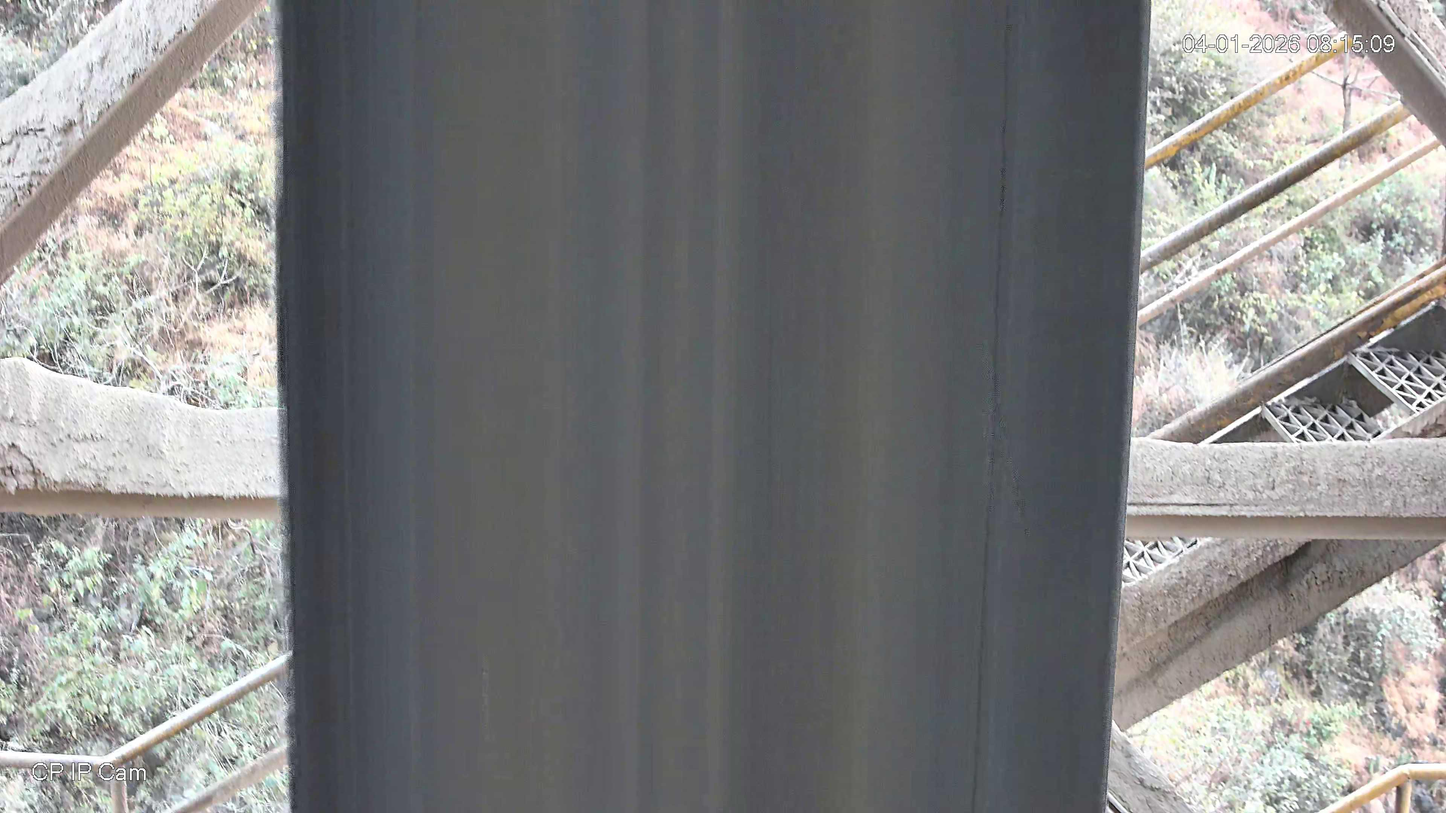belt_roi: (272, 0, 1149, 813)
